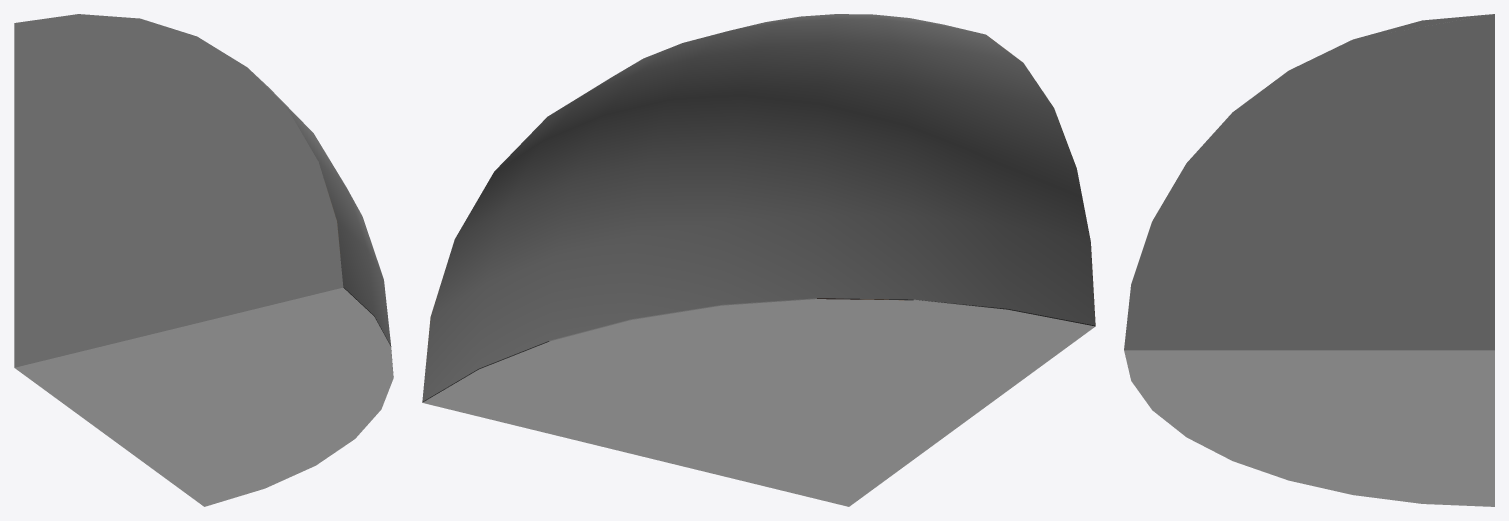
Rendered from r4c1_border_grey.gltf.
3 renders of one model, left to right at view 1: azimuth 30°, elevation 25°; view 2: azimuth 150°, elevation 25°; view 3: azimuth 270°, elevation 25°, orthographic. The views are drawn at different scales.
Visible parts, largest first — view 1: r4c1_border_grey; view 2: r4c1_border_grey; view 3: r4c1_border_grey.
Part boxes in pixels (left/top/right/bottom): r4c1_border_grey: left=14, top=14, right=393, bottom=506; r4c1_border_grey: left=422, top=14, right=1095, bottom=506; r4c1_border_grey: left=1124, top=14, right=1494, bottom=506.
Size of the model in its own units: 2.1 by 2.1 by 2.1.
Materials: 1 (1 with a texture image).
